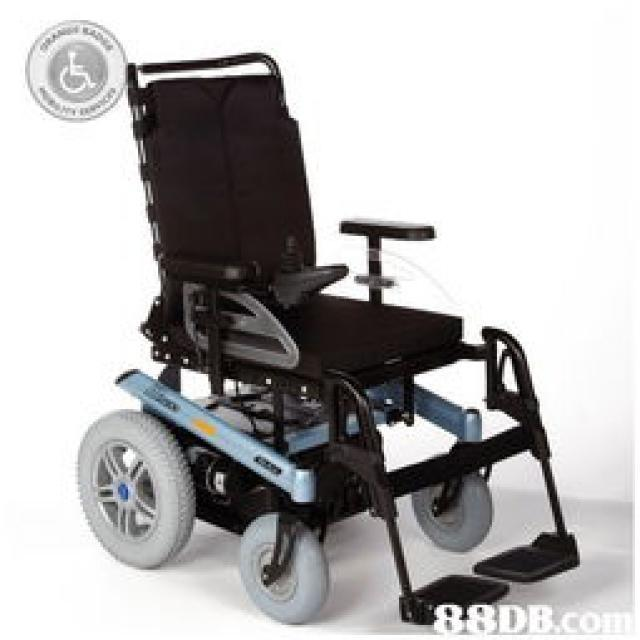wheelchair: (65, 50, 592, 620)
